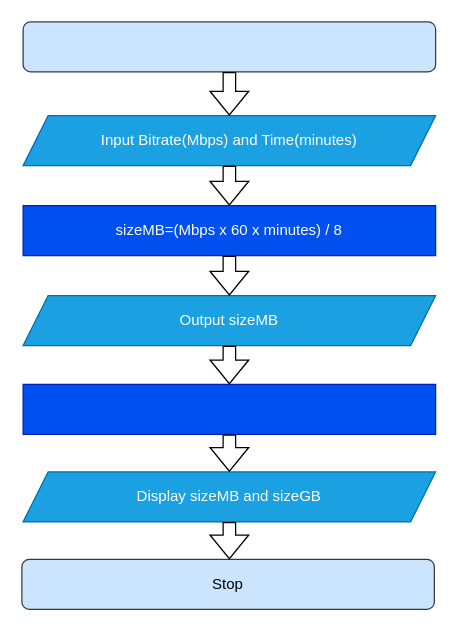
Some shapes in this 458 by 631 pixel diagram are drawn without their labels. The box of each missing label's shape, as (x1, y1, x2, y2) in pixels:
Convert sizeMB to sizeGB: (22, 383, 436, 434)
Start: (22, 21, 436, 72)
